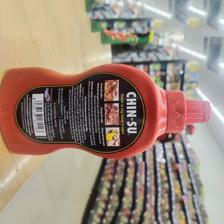Chinsu: (1, 63, 210, 160)
